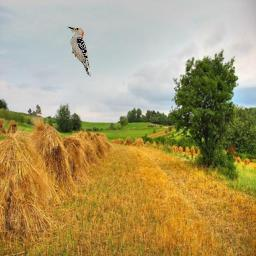Woodpecker: (67, 24, 91, 77)
